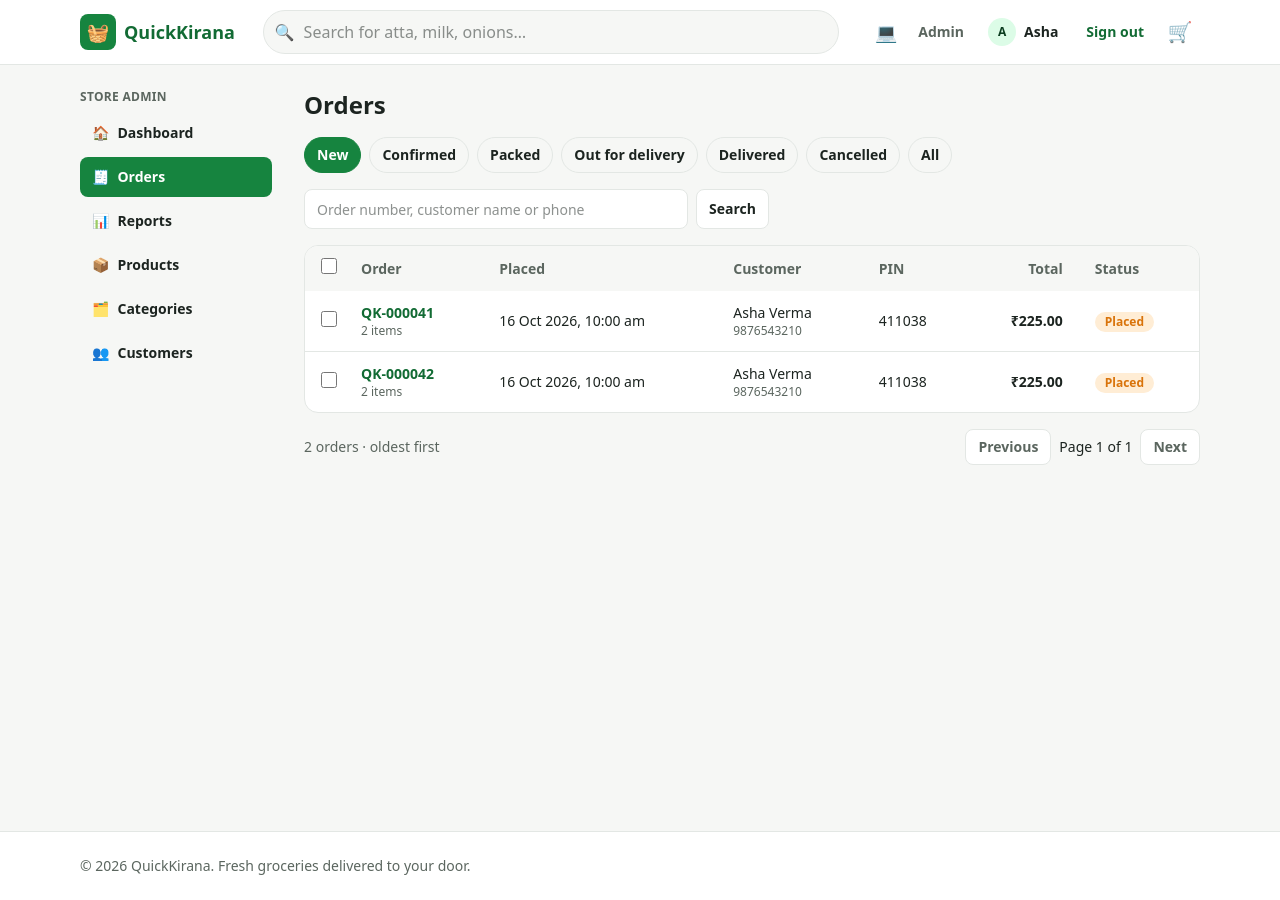
Test case: bulk order actions › confirms the selected new orders together and reports the ones that could not move
The width and height of the screenshot is (1280, 900).
Step 1. Click the checkbox named "Select all orders on this page" → (329, 266), box [321, 258, 337, 274]
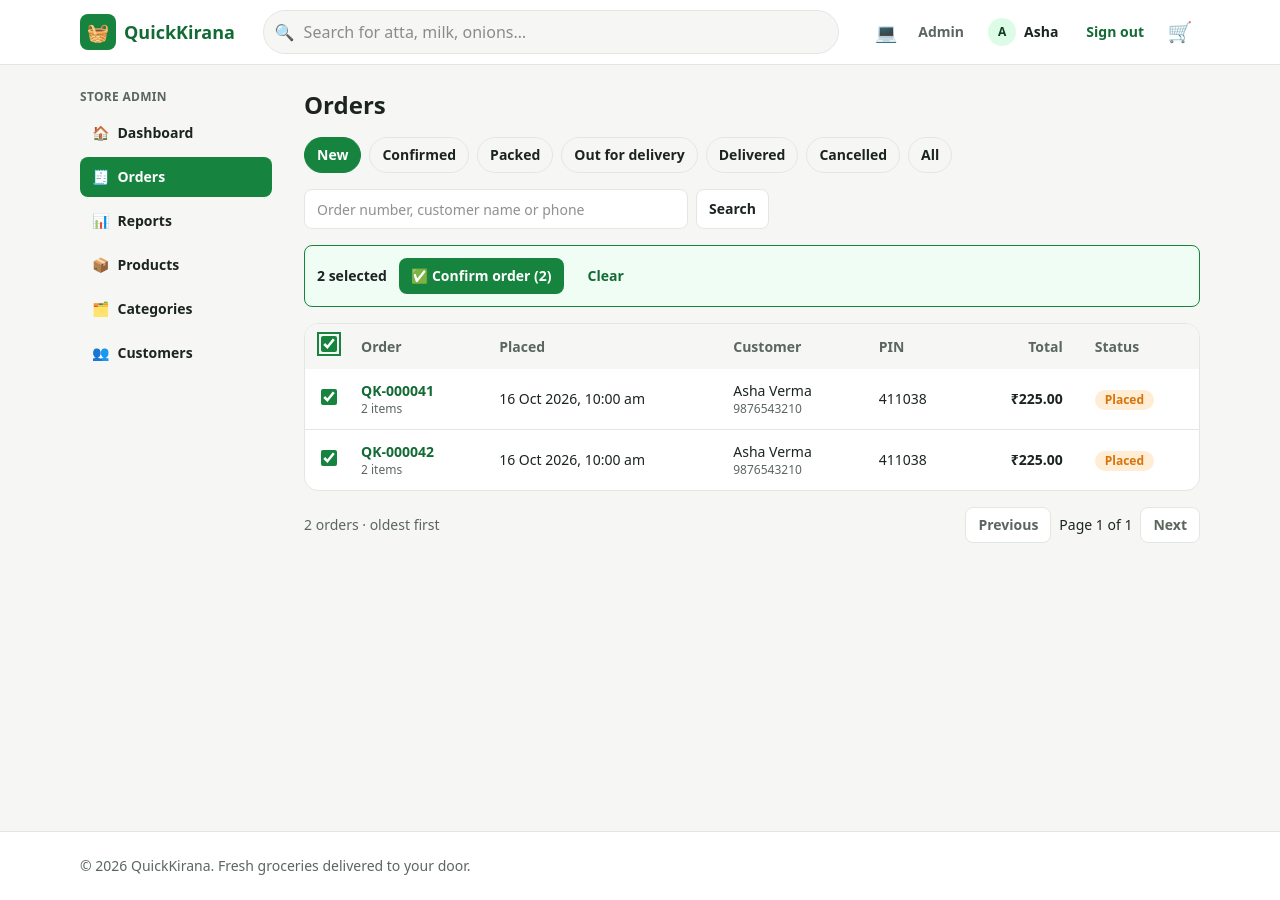
Step 2. Click the button "✅ Confirm order (2)" → (481, 276), box [399, 258, 564, 294]
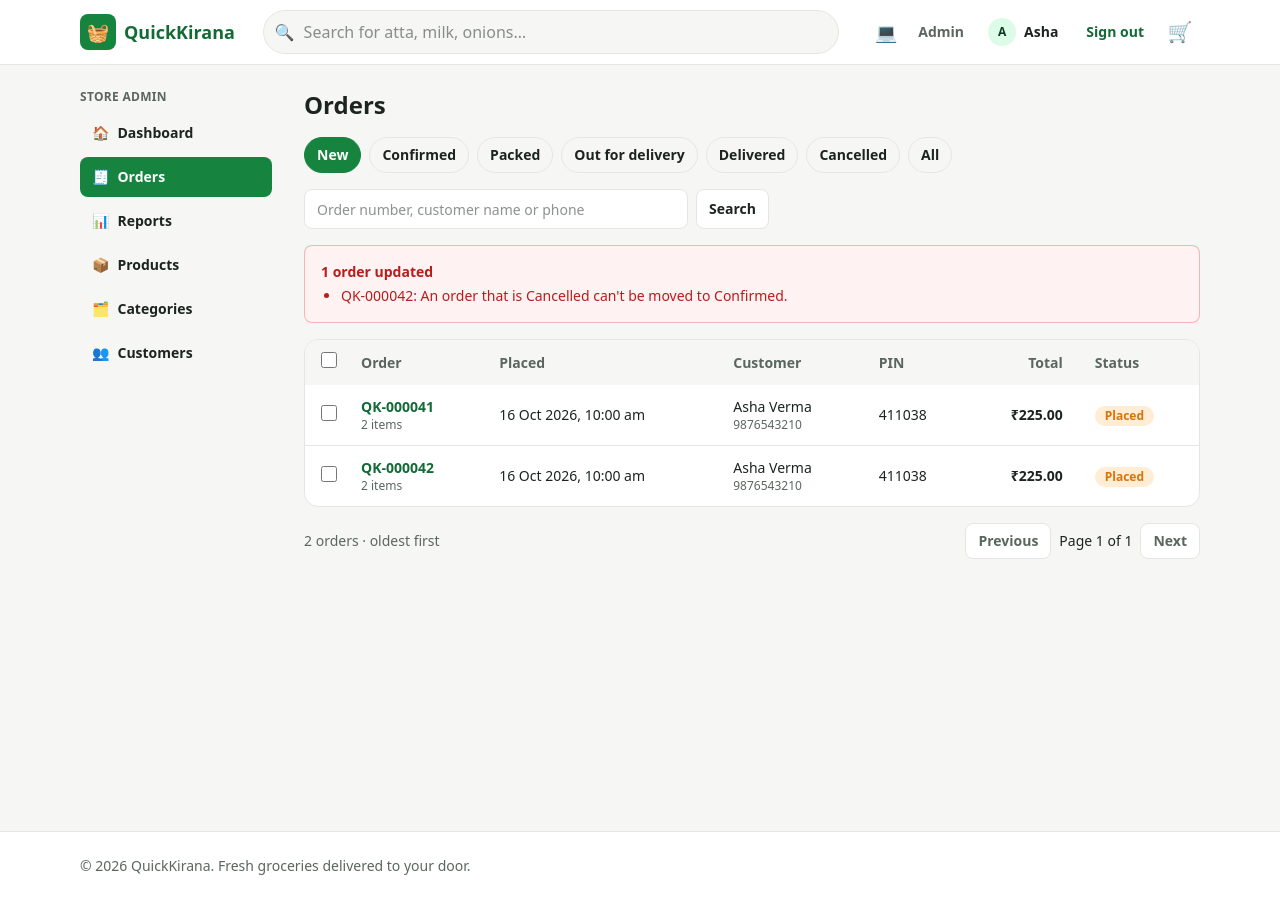
Check: the text "1 order updated" is shown, box [321, 262, 433, 281]
Check: the list item "QK-000042: An order that is Cancelled" is shown, box [341, 286, 788, 305]
